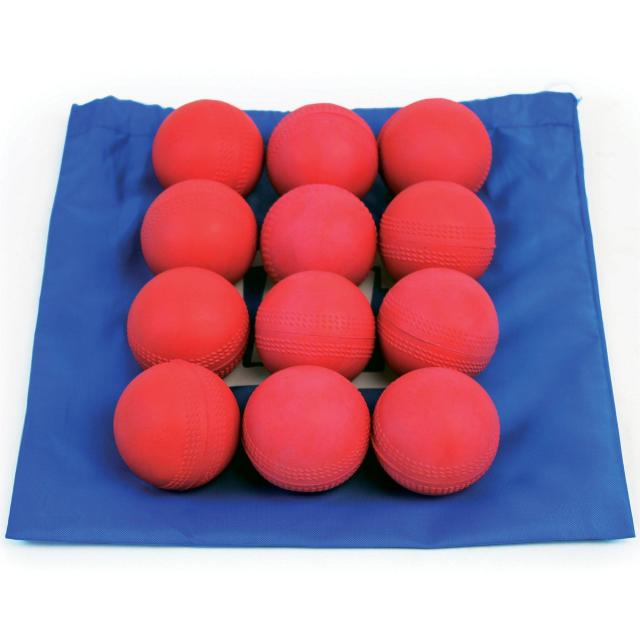ball: (151, 94, 272, 192)
